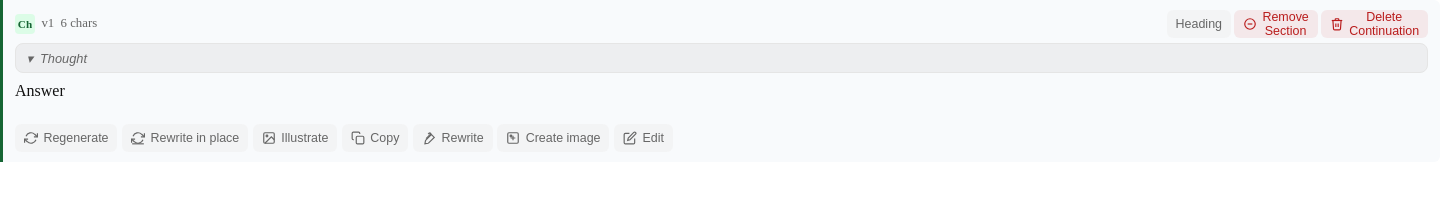
it: ChatNodeComponent › thinking toggle › exposes hasThinking and shows the thinking body once opened
Step 1. Click the button with class "thinking-toggle" → (64, 58), box 16,44 -> 1427,72
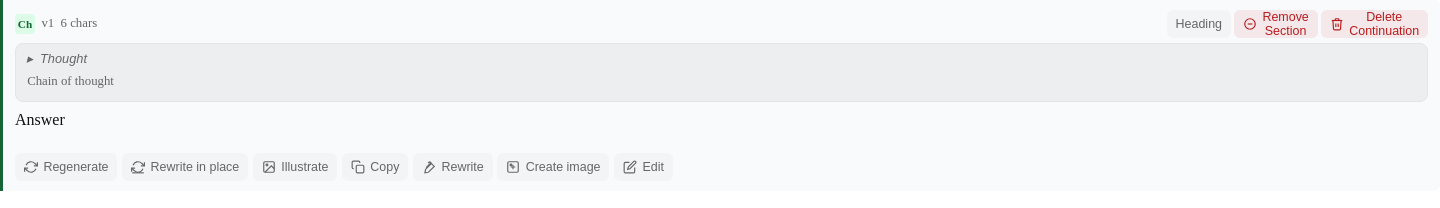
Expected: the text "Chain of thought" is shown, 27,74 -> 114,88
